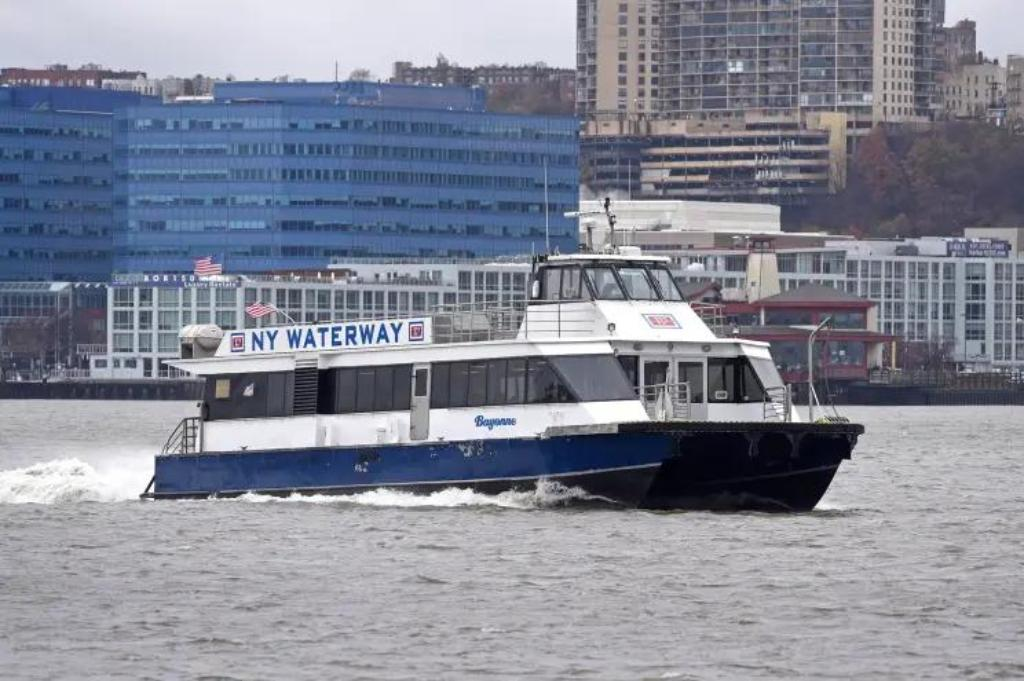PassengerShip: (132, 212, 880, 514)
